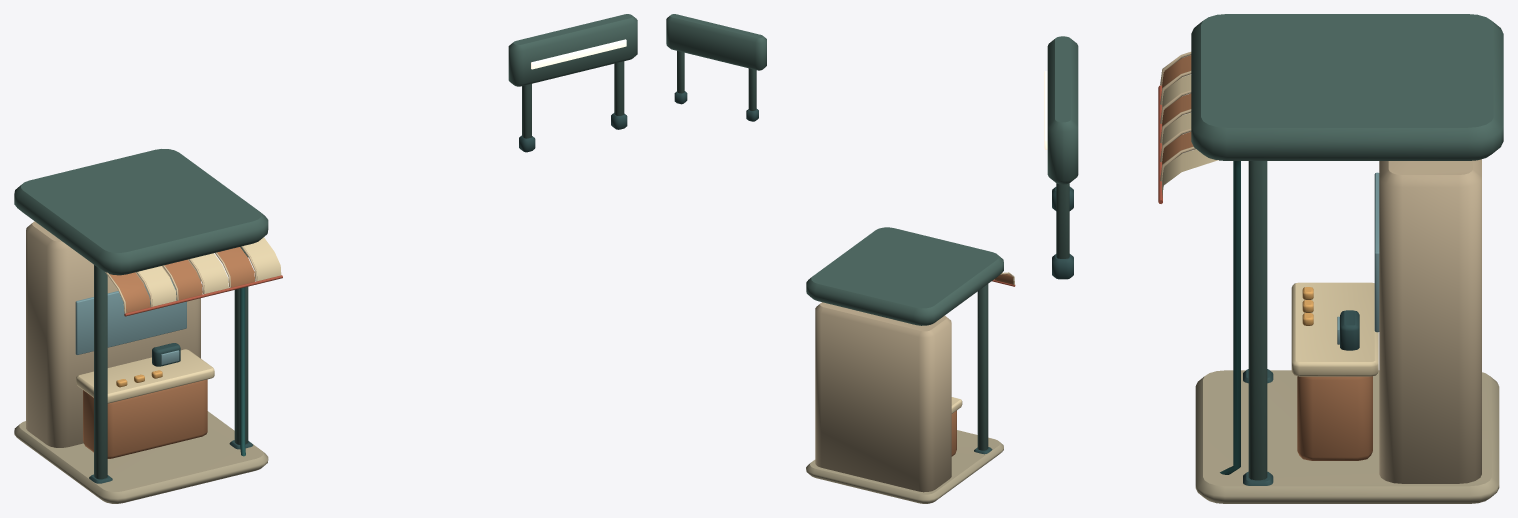
Rendered from wilderness_rent_4.glb.
The picture shows the model from 3 angles, left to right: view 1: azimuth 30°, elevation 25°; view 2: azimuth 150°, elevation 25°; view 3: azimuth 270°, elevation 25°; orthographic projection. The views are drawn at different scales.
Parts seen in each view (by area): view 1: WildernessRent4; view 2: WildernessRent4; view 3: WildernessRent4.
Part boxes in pixels (left/top/right/bottom): WildernessRent4: left=14, top=14, right=637, bottom=503; WildernessRent4: left=666, top=14, right=1015, bottom=503; WildernessRent4: left=1044, top=14, right=1503, bottom=503.
Bounding box in the file's own units: 6.82 × 5.52 × 3.75.
